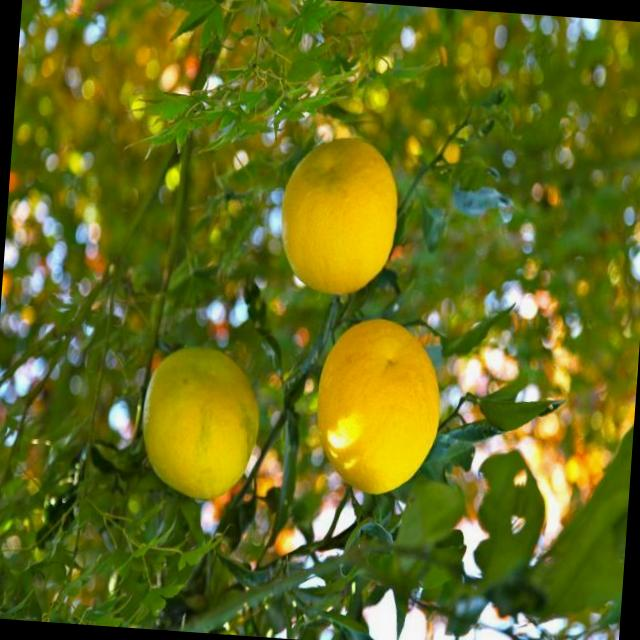Orange: (310, 314, 446, 500), (274, 133, 402, 300), (136, 343, 264, 505)
